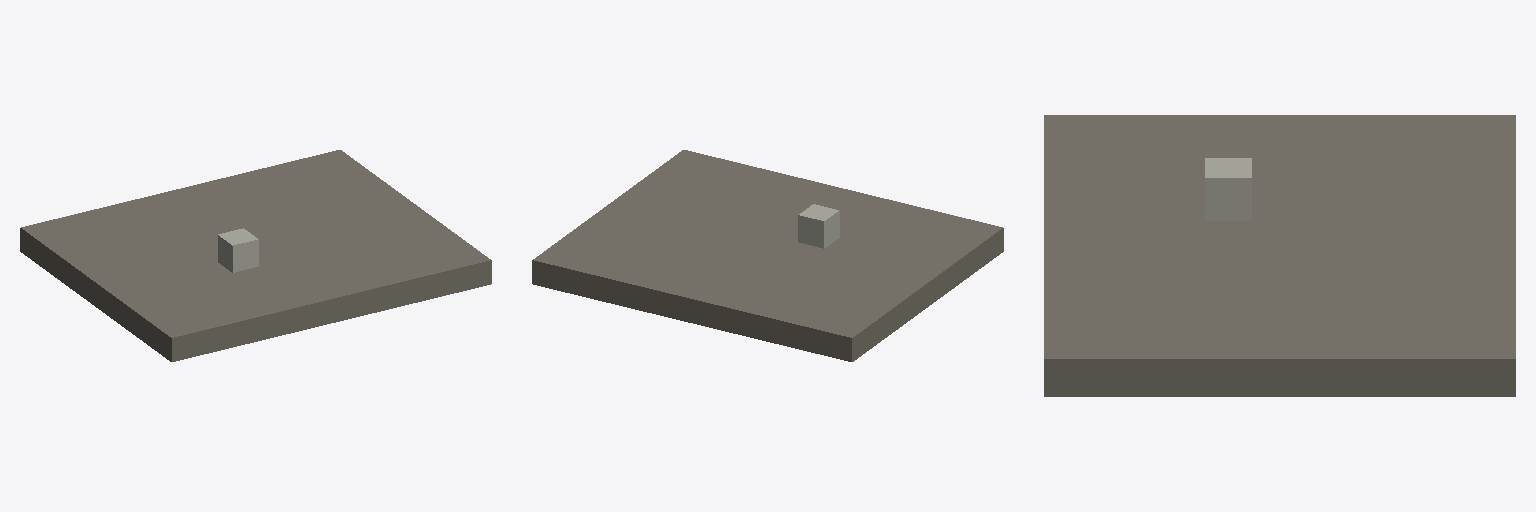
The robot description file, URDF, robot "parttoolgen_hammer_single_cube":
<?xml version="1.0"?>
<robot name="parttoolgen_hammer_single_cube">
  <link name="table_with_target_cube">
    <visual>
      <material name="wood">
        <color rgba="0.52 0.50 0.46 1.0"/>
      </material>
      <origin xyz="0 0 0"/>
      <geometry>
        <box size="0.55 0.45 0.04"/>
      </geometry>
    </visual>
    <collision>
      <origin xyz="0 0 0"/>
      <geometry>
        <box size="0.55 0.45 0.04"/>
      </geometry>
    </collision>

    <visual>
      <material name="target_cube">
        <color rgba="0.72 0.72 0.68 1.0"/>
      </material>
      <origin xyz="-0.059140681747778215 -0.04927710602759702 0.042499999999999996"/>
      <geometry>
        <box size="0.045 0.045 0.045"/>
      </geometry>
    </visual>
    <collision>
      <origin xyz="-0.059140681747778215 -0.04927710602759702 0.042499999999999996"/>
      <geometry>
        <box size="0.045 0.045 0.045"/>
      </geometry>
    </collision>

    <inertial>
      <mass value="500"/>
      <friction value="1.0"/>
      <inertia ixx="1000.0" ixy="0.0" ixz="0.0" iyy="1000.0" iyz="0.0" izz="1000.0"/>
    </inertial>
  </link>
</robot>

--- What the picture shows (computed from the rendered views, not written in the file) ---
3 views of the same robot in one strip: view 1: azimuth 30°, elevation 25°; view 2: azimuth 150°, elevation 25°; view 3: azimuth 270°, elevation 25° (orthographic).
Model parttoolgen_hammer_single_cube with 1 links and 0 joints (none), rooted at table_with_target_cube, posed every joint at zero.
Visible links, largest first — view 1: table_with_target_cube; view 2: table_with_target_cube; view 3: table_with_target_cube.
Boxes of the visible links, box(x1,y1,x2,y2) form: table_with_target_cube: box(20, 150, 491, 361); table_with_target_cube: box(532, 150, 1003, 361); table_with_target_cube: box(1044, 115, 1515, 396).
Size in the robot's own frame: 0.55 by 0.45 by 0.085 metres.
Geometry: primitives only (box / cylinder / sphere), no mesh files.
